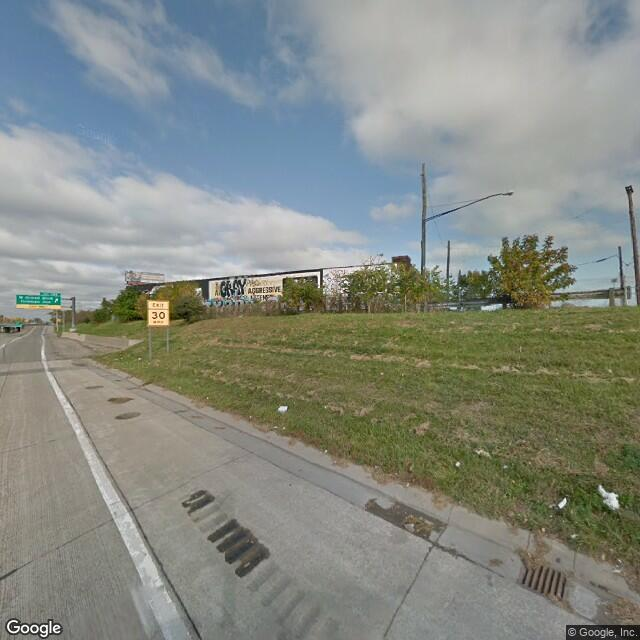litter: (590, 474, 623, 514), (547, 496, 568, 521), (275, 396, 290, 425)
